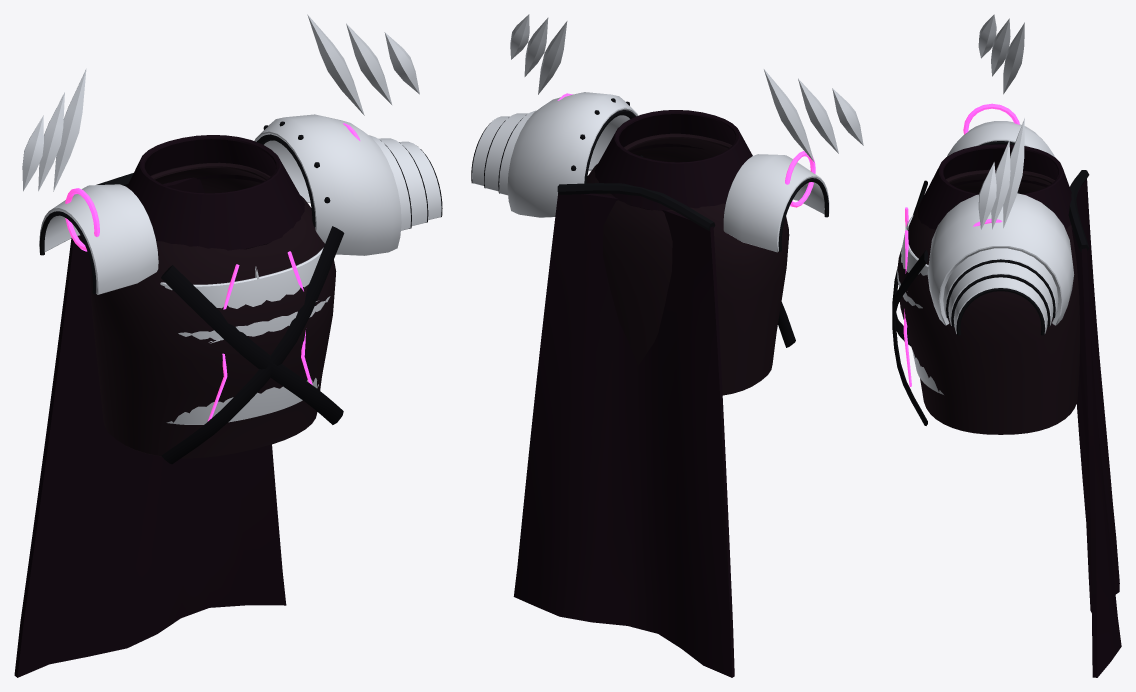
The model's file is esc_hollow_eclipse_armor.glb.
3 views of the same model, side by side, from view 1: azimuth 30°, elevation 25°; view 2: azimuth 150°, elevation 25°; view 3: azimuth 270°, elevation 25° (orthographic). The views are drawn at different scales.
Parts seen in each view (by area): view 1: esc_hollow_eclipse_armor, AT_upper_arm_L, AT_upper_arm_R; view 2: esc_hollow_eclipse_armor, AT_upper_arm_L, AT_upper_arm_R; view 3: esc_hollow_eclipse_armor, AT_upper_arm_L, AT_upper_arm_R.
Boxes of the visible parts, box(x1,y1,x2,y2) form: esc_hollow_eclipse_armor: box(14, 14, 419, 677); AT_upper_arm_L: box(254, 114, 442, 255); AT_upper_arm_R: box(39, 184, 158, 294); esc_hollow_eclipse_armor: box(510, 14, 863, 677); AT_upper_arm_L: box(471, 92, 643, 217); AT_upper_arm_R: box(723, 154, 829, 252); esc_hollow_eclipse_armor: box(892, 14, 1121, 677); AT_upper_arm_L: box(927, 191, 1074, 335); AT_upper_arm_R: box(947, 121, 1054, 156).
Size of the model in its own units: 0.9469 by 1.43 by 0.5229.
